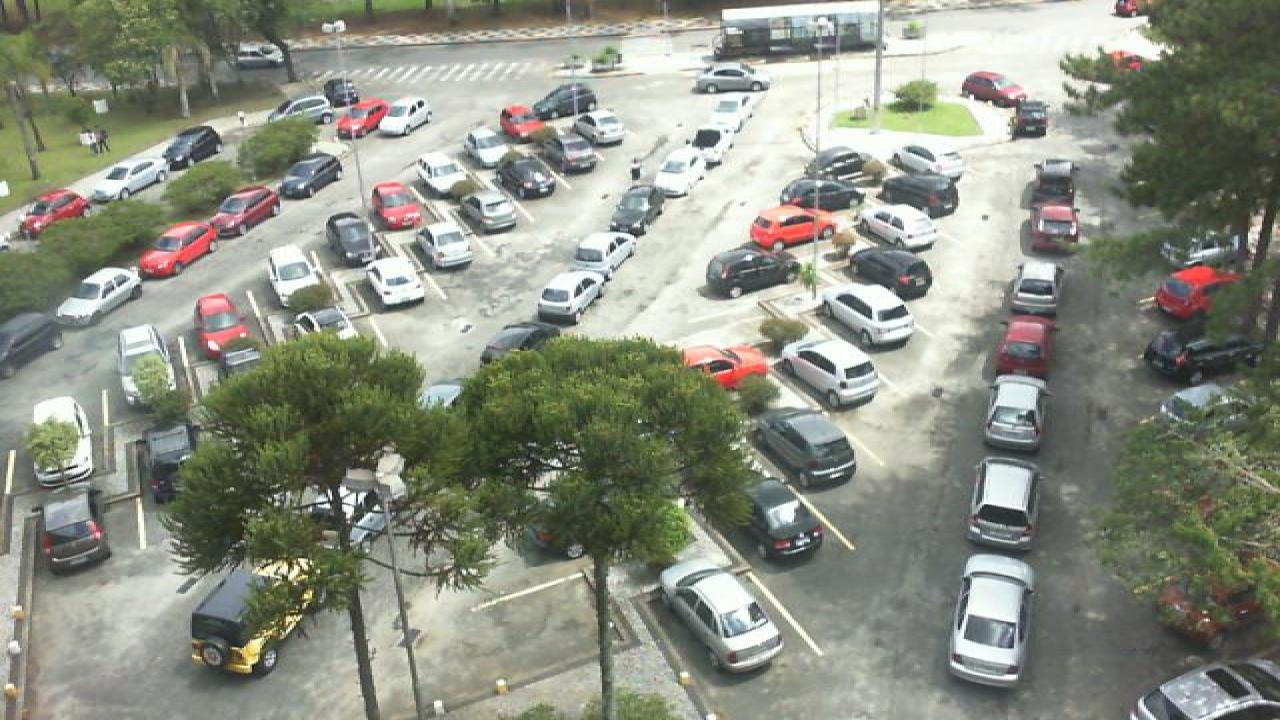Car: (656, 554, 786, 672), (946, 550, 1036, 688), (1130, 657, 1280, 720), (750, 406, 858, 491), (780, 335, 884, 411), (964, 456, 1040, 550), (30, 489, 112, 575), (744, 478, 828, 557), (1142, 326, 1256, 384), (26, 395, 96, 488), (824, 282, 916, 348), (132, 421, 198, 507), (1148, 262, 1244, 321), (980, 373, 1048, 454), (134, 217, 222, 278), (54, 264, 144, 323), (702, 245, 802, 298), (678, 341, 770, 395), (0, 310, 68, 382), (188, 290, 254, 364), (846, 248, 934, 301), (114, 323, 176, 398), (534, 269, 612, 328), (746, 201, 838, 251), (856, 200, 938, 252), (8, 187, 96, 235), (206, 184, 284, 238), (362, 252, 430, 309), (264, 243, 322, 307), (478, 320, 562, 364), (882, 172, 960, 219), (996, 315, 1054, 377), (276, 150, 346, 200), (412, 221, 478, 274), (92, 156, 168, 202), (324, 211, 384, 268), (884, 142, 966, 183), (1008, 259, 1068, 315), (414, 150, 478, 200), (650, 146, 710, 198), (368, 178, 426, 230), (780, 178, 868, 212), (576, 228, 640, 274), (456, 188, 520, 234), (1024, 203, 1082, 253), (168, 126, 240, 165), (608, 186, 668, 232), (494, 156, 556, 200), (960, 69, 1028, 109), (686, 111, 738, 163), (1030, 157, 1084, 207), (690, 63, 774, 95), (332, 98, 390, 140), (372, 97, 432, 137), (534, 81, 600, 116), (264, 92, 336, 124), (706, 92, 760, 134), (574, 109, 628, 147), (554, 134, 604, 175), (498, 102, 552, 138), (460, 130, 512, 166), (230, 41, 290, 70), (1012, 100, 1052, 140)
